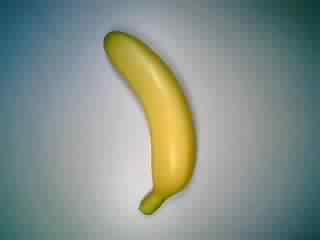banana: (99, 29, 198, 216)
